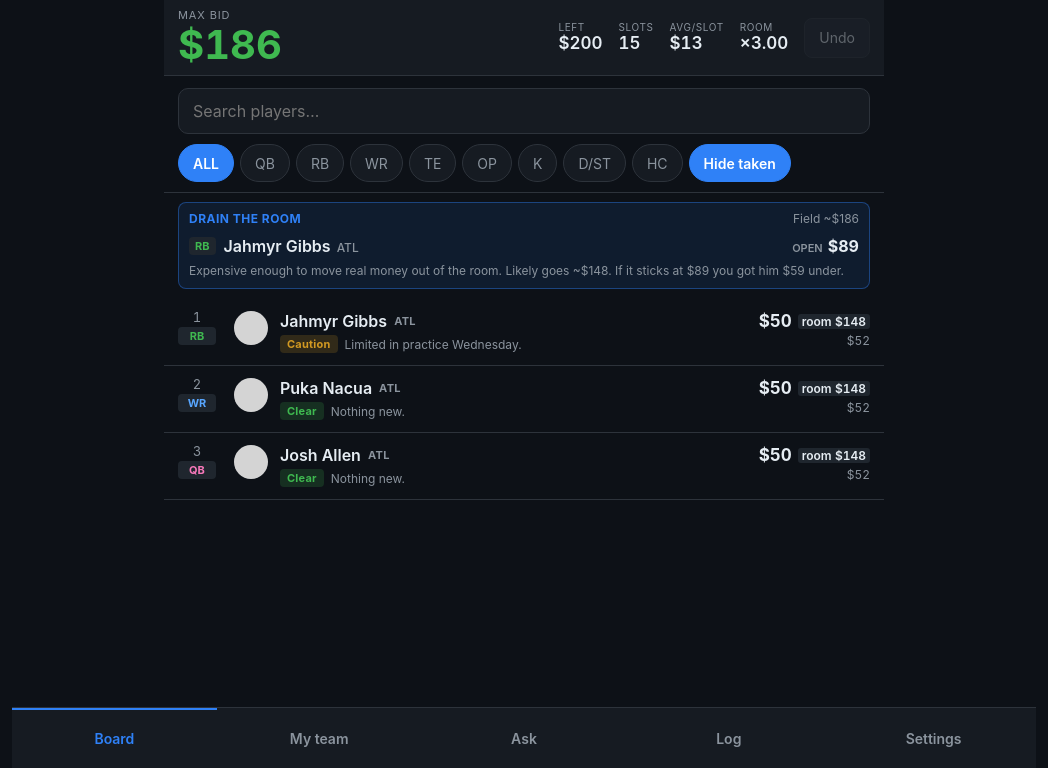
Test: draft board end to end › keeps scout reports across a page refresh
The width and height of the screenshot is (1048, 768).
Expected: the text "Caution" is shown, [280,335,338,353]
Click the text "Jahmyr Gibbs" at coordinates (334, 321), box [280,311,387,331]
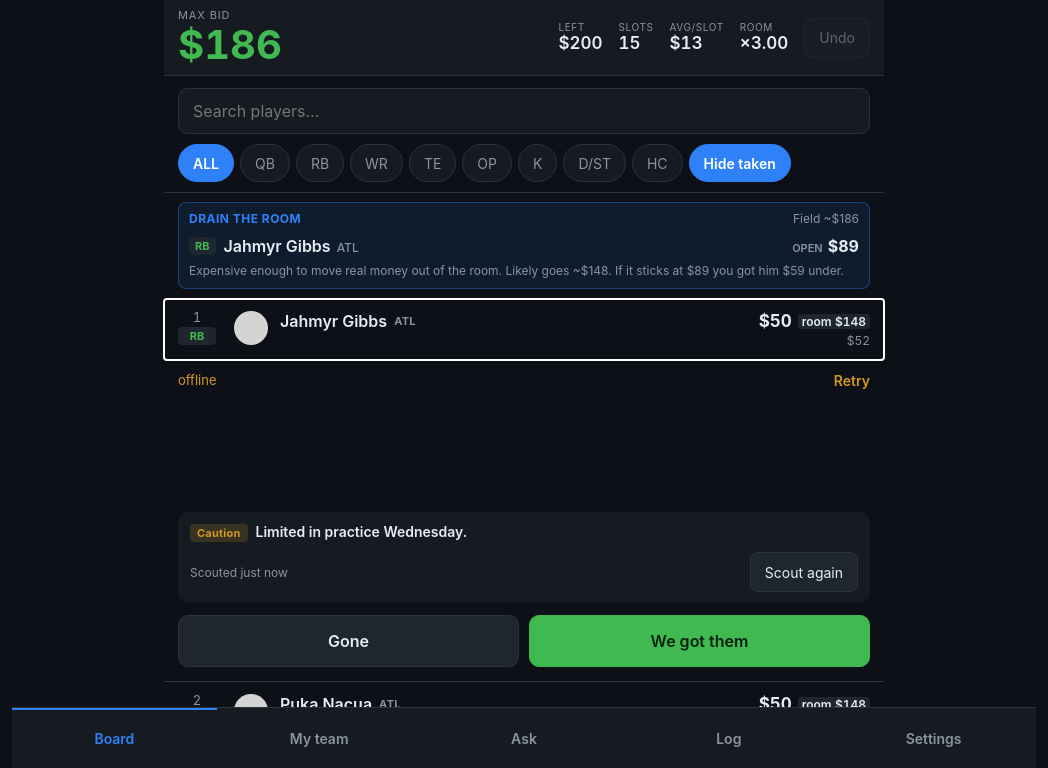
Expected: the text "Limited in practice Wednesday." is shown, [256,523,467,542]
Now the text "Scouted just now" is shown, box [190,565,288,580]
